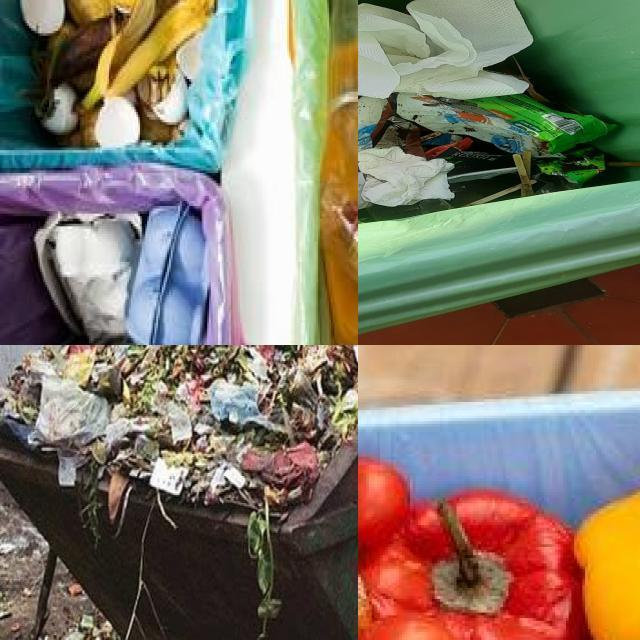Disposable: (126, 202, 209, 345)
Garbage: (6, 0, 358, 345), (0, 345, 358, 634), (358, 0, 640, 222), (358, 457, 640, 640)
Plastic: (320, 0, 358, 345)
Plastic_Bag: (35, 379, 109, 446), (209, 379, 285, 430), (358, 97, 388, 152), (448, 168, 517, 183)
Plastic_wraper: (466, 95, 616, 153), (397, 93, 538, 153), (538, 146, 607, 187)
contaminated_waste: (316, 0, 358, 345)
